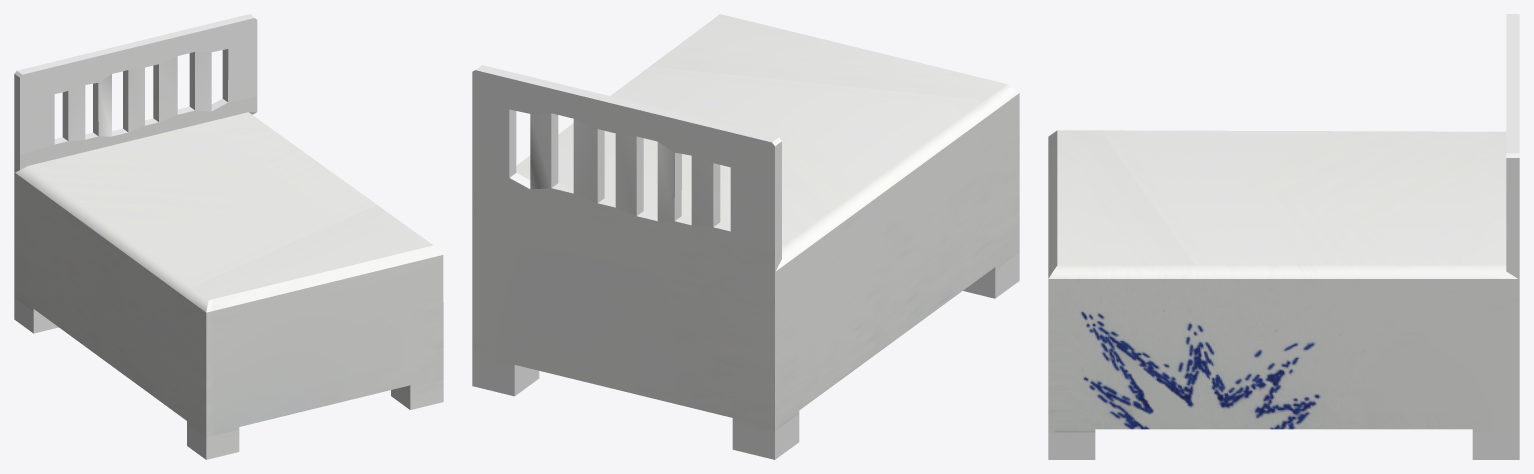
The model's file is BedTest.fbx.
3 views of the same model, side by side, from view 1: azimuth 30°, elevation 25°; view 2: azimuth 150°, elevation 25°; view 3: azimuth 270°, elevation 25° (orthographic). The views are drawn at different scales.
Visible parts, largest first — view 1: bed; view 2: bed; view 3: bed.
Boxes of the visible parts, x1,y1,x2,y2 form: bed: (14,14,443,459); bed: (472,14,1019,459); bed: (1048,14,1519,459).
Size of the model in its own units: 0.5 by 0.5 by 0.7.
